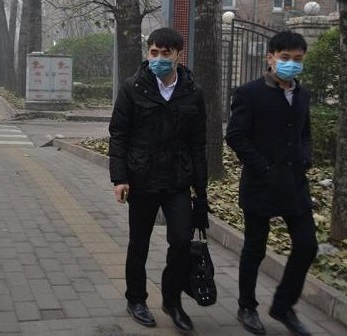person: (105, 28, 219, 332), (227, 31, 321, 334)
